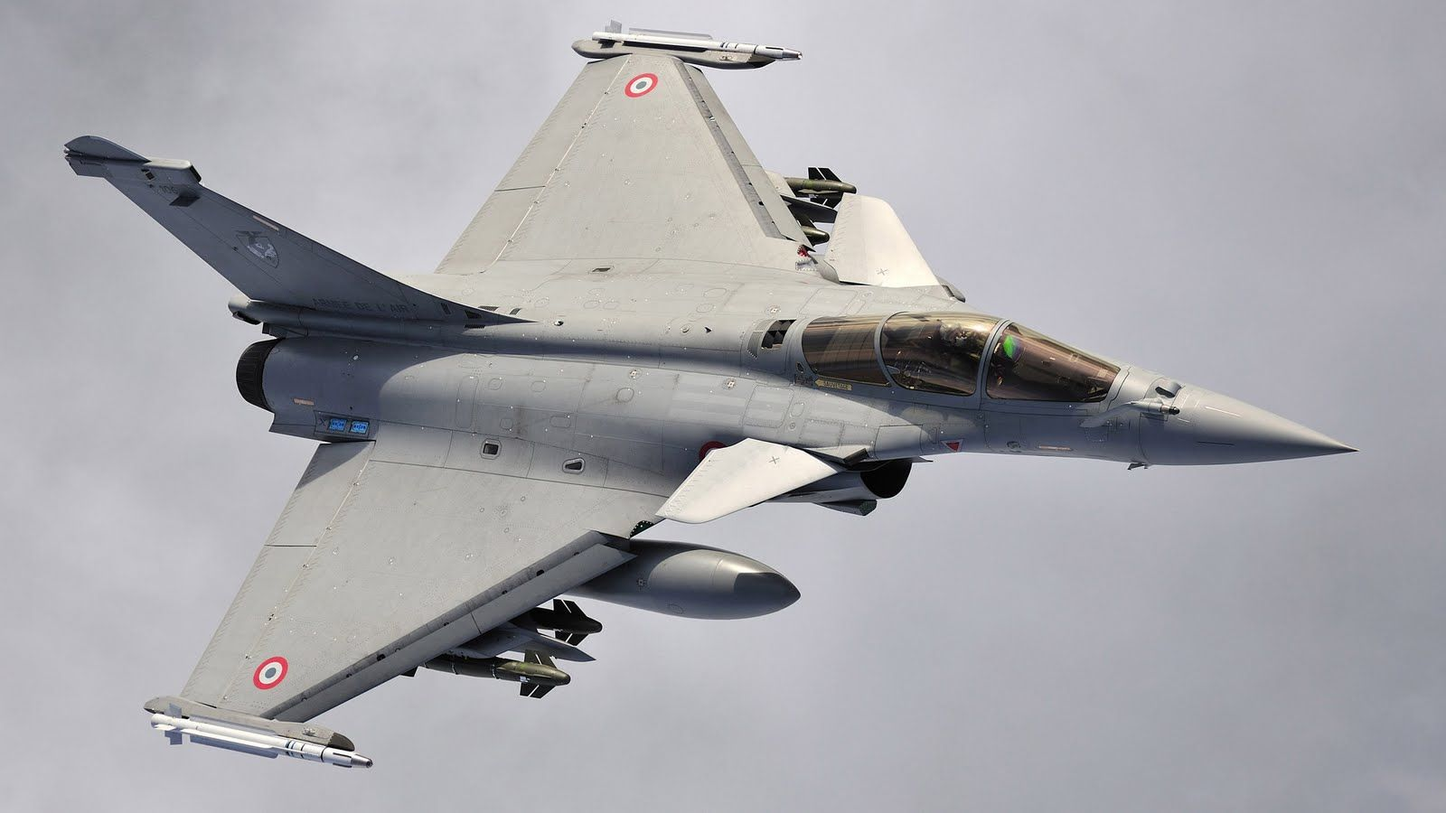Rafale: (56, 10, 1363, 777)
